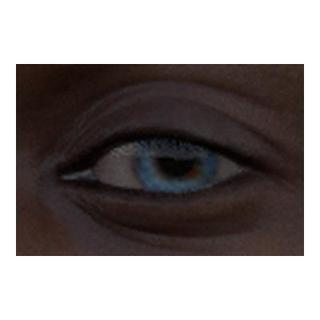pupil: (160, 143, 193, 176)
